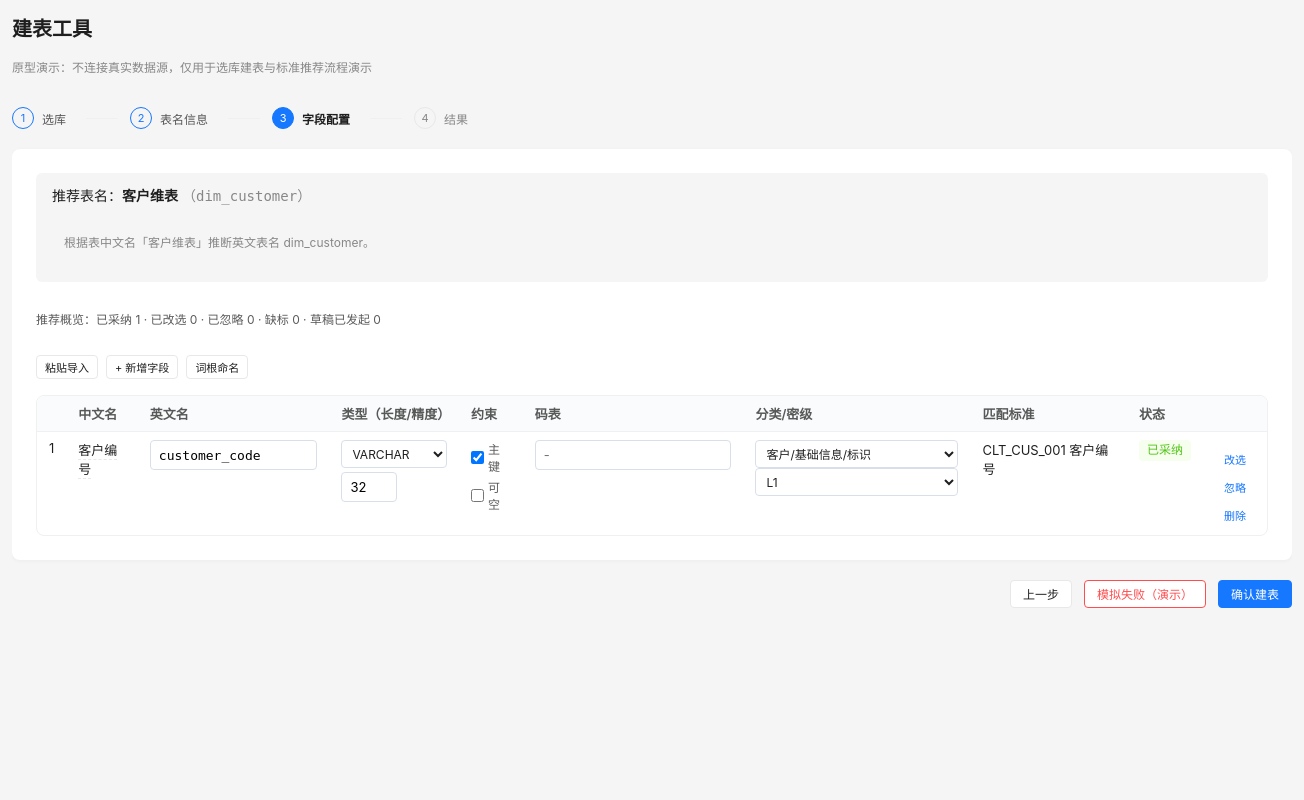
it: TableBuilderPage step 3 recommend confirmation › regenerates recommendation for a field after editing its Chinese name on Step3
This screenshot has width=1304, height=800.
Step3: 点击字段中文名进入内联编辑
Click the button "客户编号". click: (98, 451)
box: [78,442,117,479]
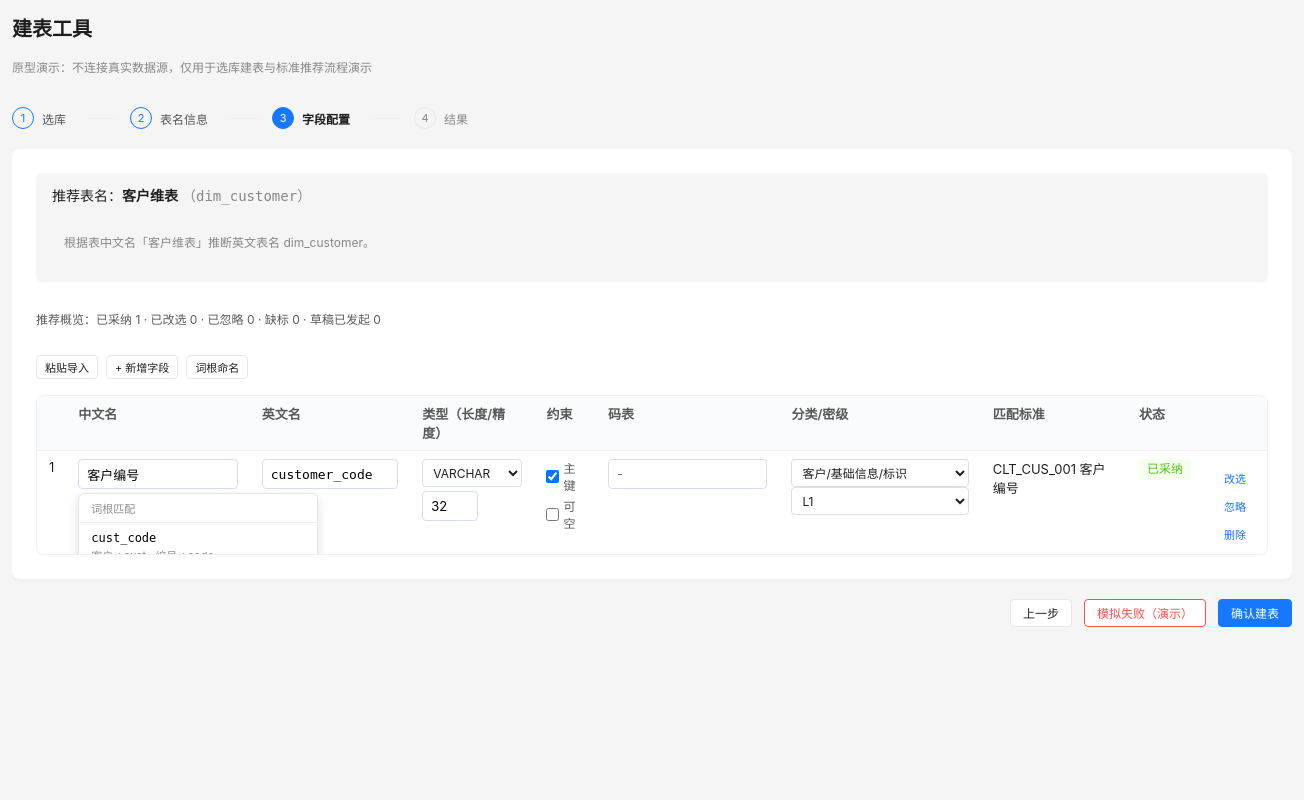
Replace the text in the field named "编辑字段中文名" with "客户性别". click: (158, 474)
box: [78,459,238,489]
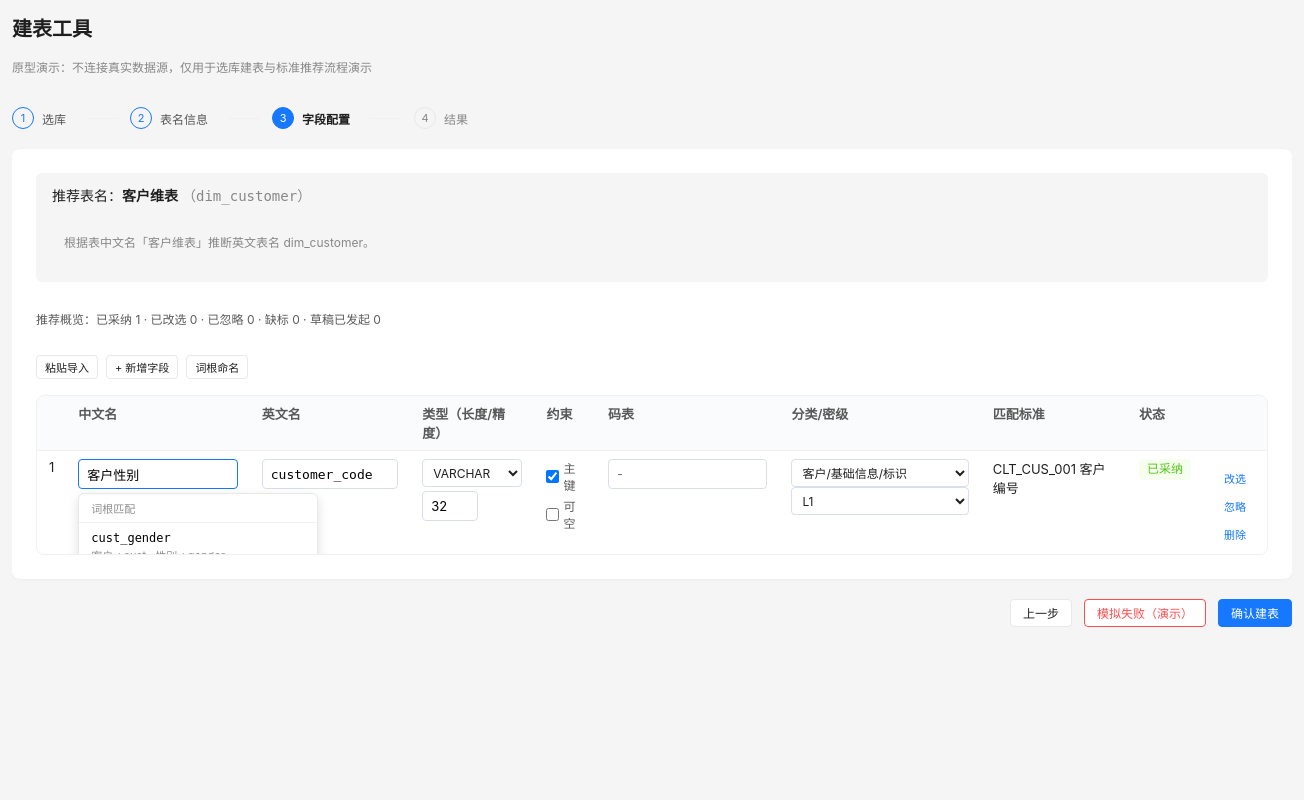
Press Enter
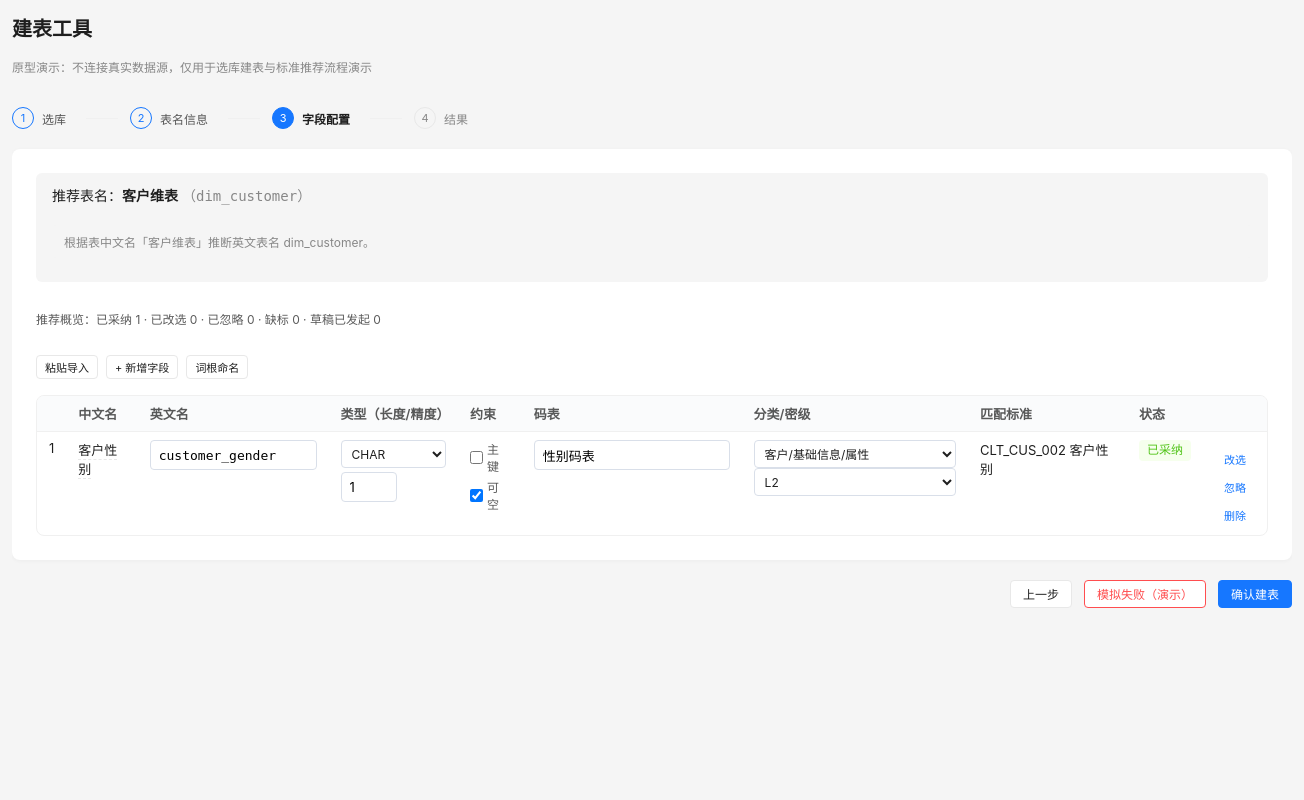
Expected: the text "已采纳" is shown, [1139,440,1191,461]
Result: the text "CLT_CUS_002 客户性别" is shown at [968,432,1127,535]
Result: the text "CLT_CUS_001" is gone
